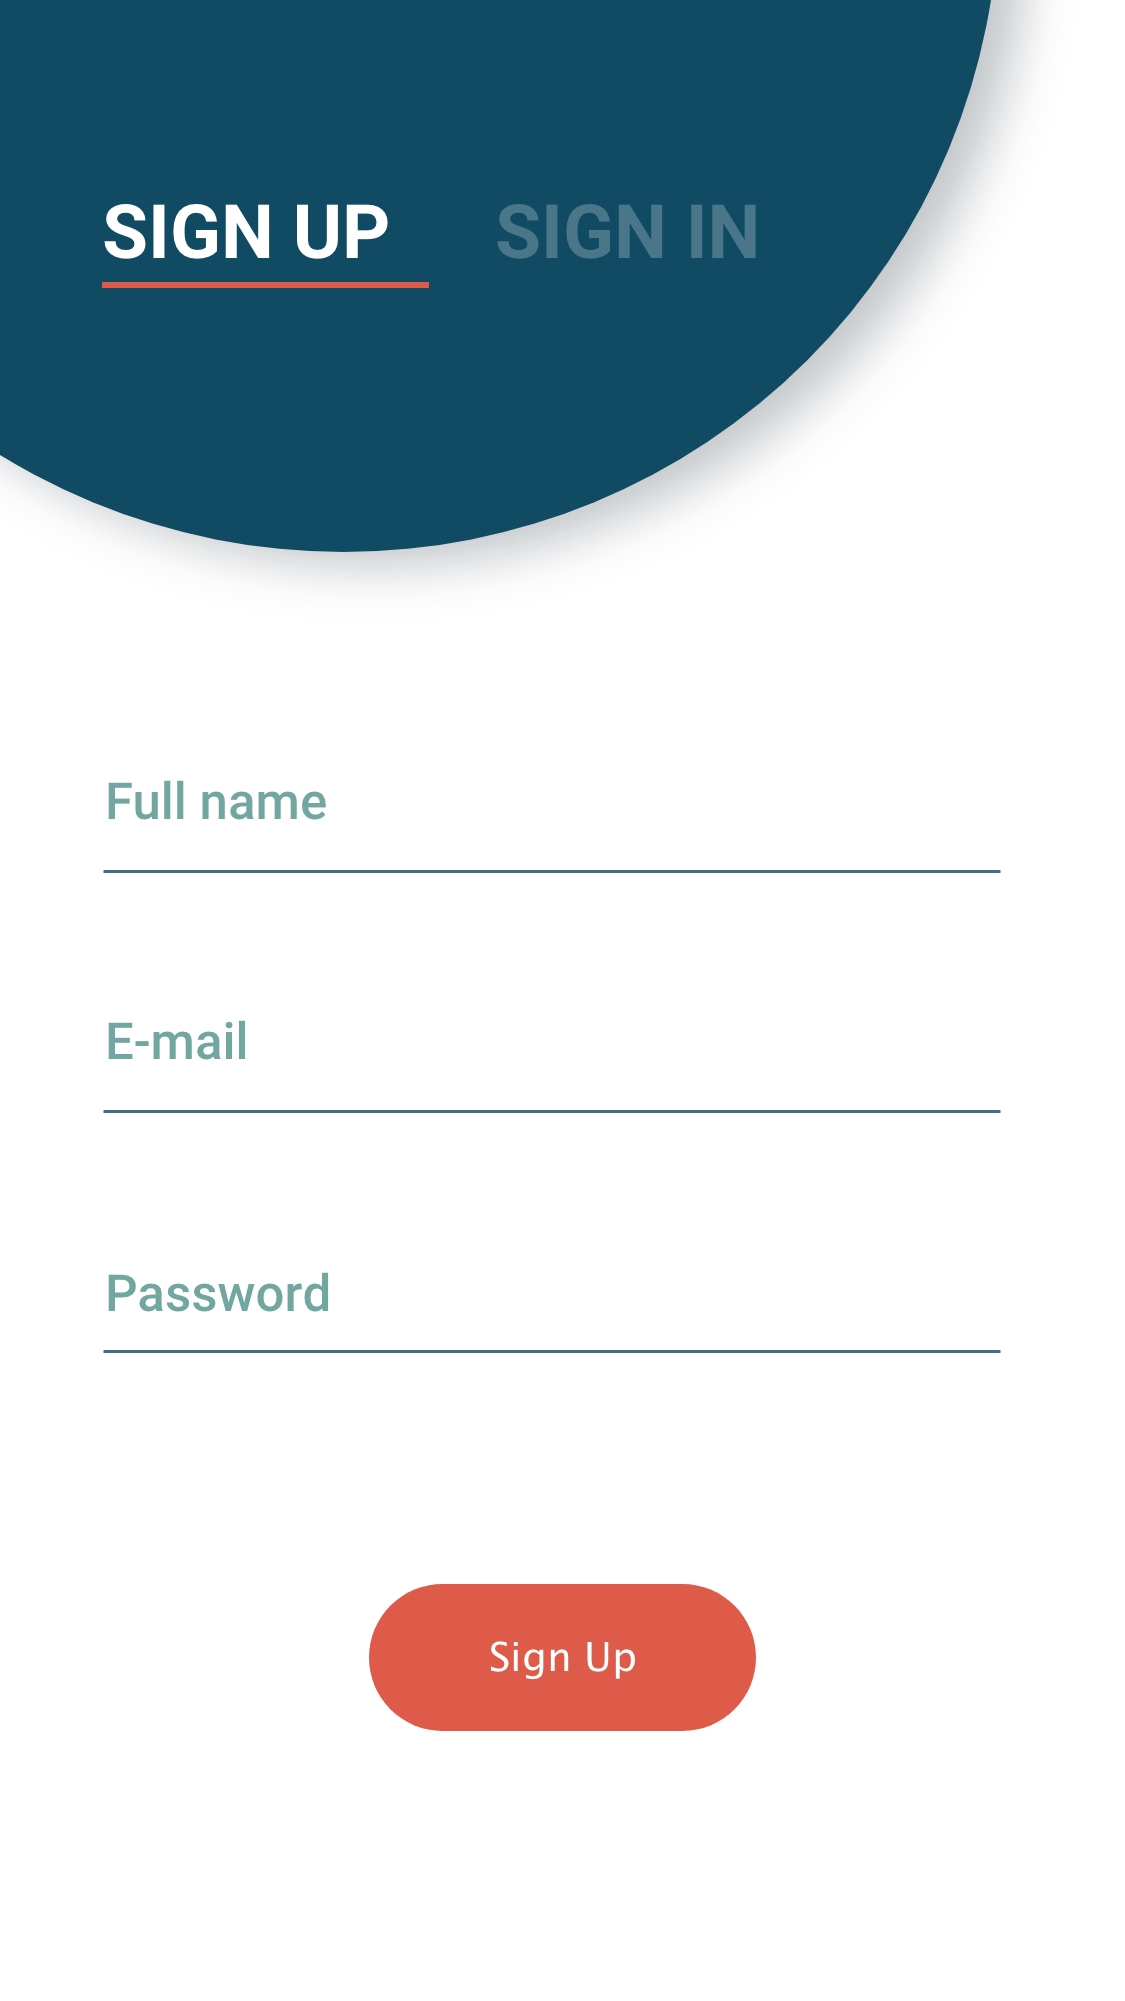EditText: (103, 781, 1001, 875), (103, 1020, 1001, 1115), (103, 1273, 1001, 1354)
Text: (104, 203, 390, 261), (497, 203, 758, 261), (109, 1273, 330, 1312), (109, 781, 327, 820), (109, 1020, 247, 1061)
TextButton: (370, 1583, 757, 1732)
